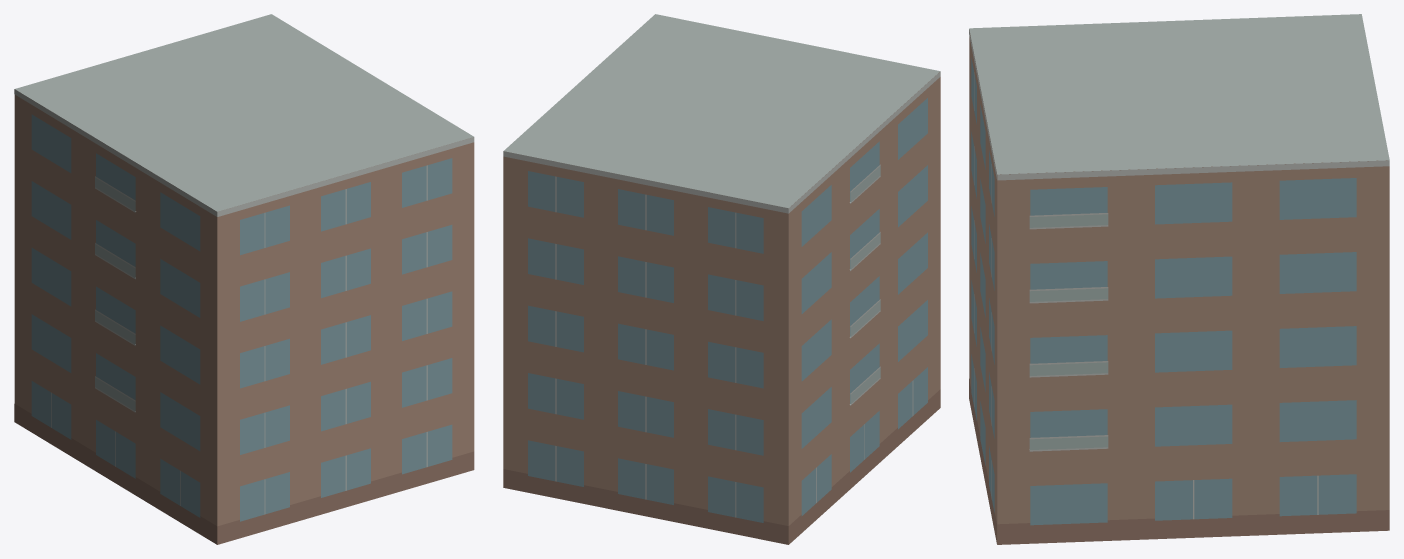
Rendered from survey-upis-32654817.glb.
3 renders of one model, left to right at view 1: azimuth 30°, elevation 25°; view 2: azimuth 150°, elevation 25°; view 3: azimuth 270°, elevation 25°, orthographic. The views are drawn at different scales.
Parts seen in each view (by area): view 1: survey-upis-32654817.tmp; view 2: survey-upis-32654817.tmp; view 3: survey-upis-32654817.tmp.
Part boxes in pixels (<box>): survey-upis-32654817.tmp: <box>14,14,474,544</box>; survey-upis-32654817.tmp: <box>503,14,940,544</box>; survey-upis-32654817.tmp: <box>969,14,1389,544</box>.
Bounding box in the file's own units: 14.19 × 15.25 × 15.71.
